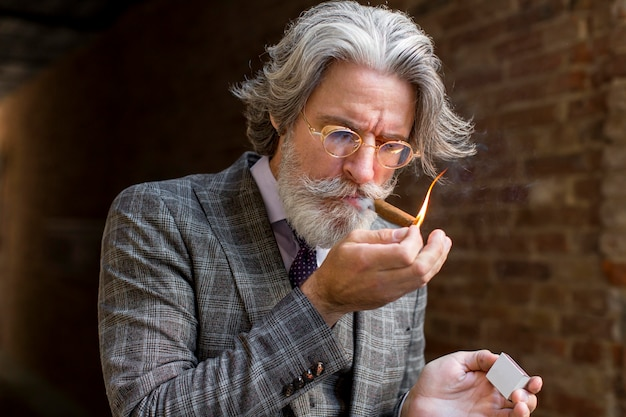cigarette: (368, 196, 420, 231)
